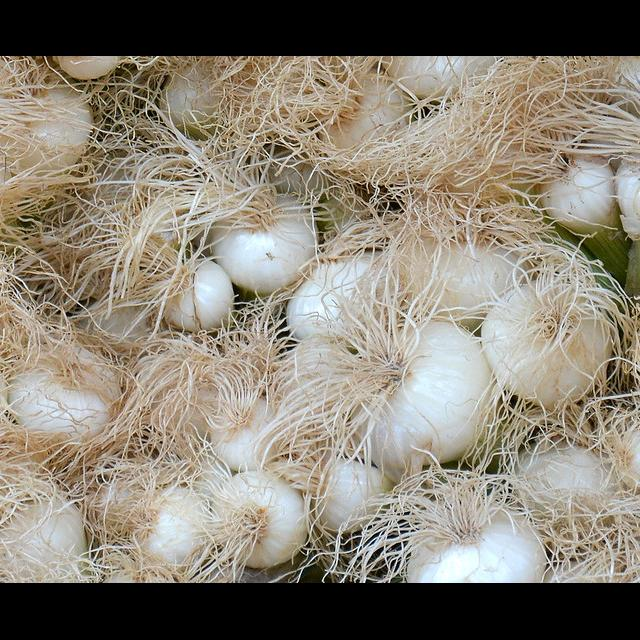green_onion: (0, 58, 640, 581)
